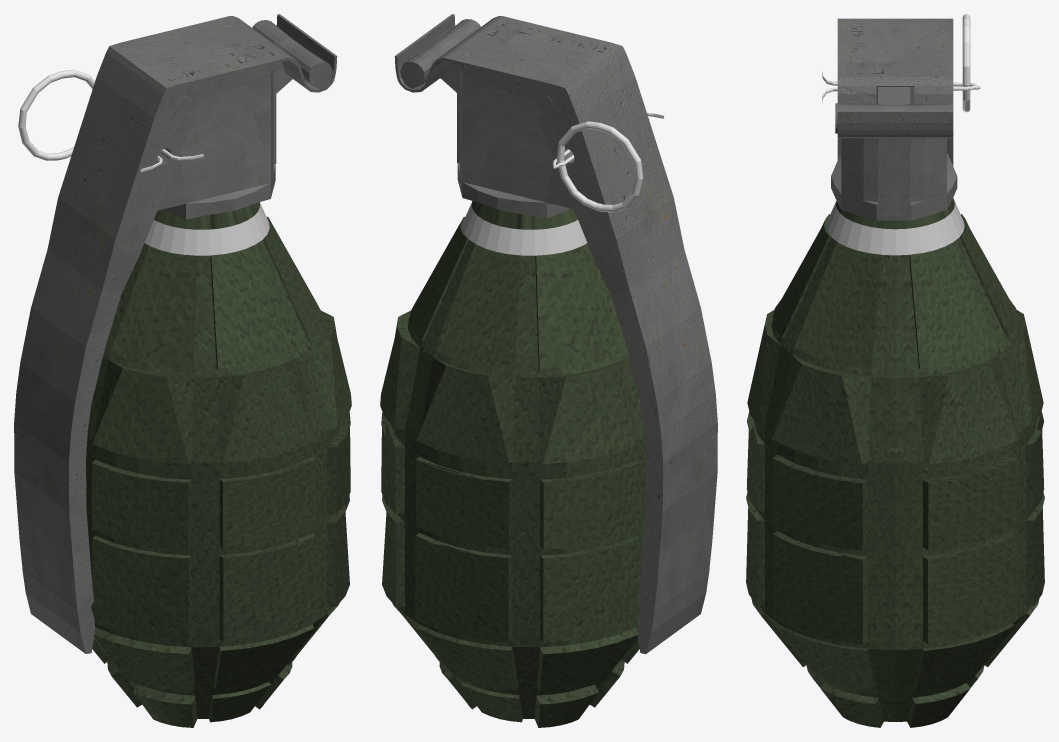
3 renders of one model, left to right at view 1: azimuth 30°, elevation 25°; view 2: azimuth 150°, elevation 25°; view 3: azimuth 270°, elevation 25°, orthographic.
Parts seen in each view (by area): view 1: MK2, SafetyLever, MK2Head, Pin.001; view 2: MK2, SafetyLever, MK2Head, Pin.001; view 3: MK2, SafetyLever, MK2Head, Pin.001.
Part boxes in pixels (x1=…): MK2: x1=86, y1=202, x2=351, y2=727; SafetyLever: x1=14, y1=14, x2=337, y2=653; MK2Head: x1=157, y1=20, x2=332, y2=219; Pin.001: x1=18, y1=69, x2=94, y2=160; MK2: x1=380, y1=201, x2=645, y2=727; SafetyLever: x1=394, y1=14, x2=717, y2=653; MK2Head: x1=400, y1=19, x2=574, y2=218; Pin.001: x1=556, y1=121, x2=643, y2=212; MK2: x1=746, y1=198, x2=1044, y2=727; SafetyLever: x1=837, y1=18, x2=953, y2=165; MK2Head: x1=831, y1=87, x2=957, y2=220; Pin.001: x1=962, y1=14, x2=970, y2=112.
Size of the model in its own units: 352 by 762 by 316.
